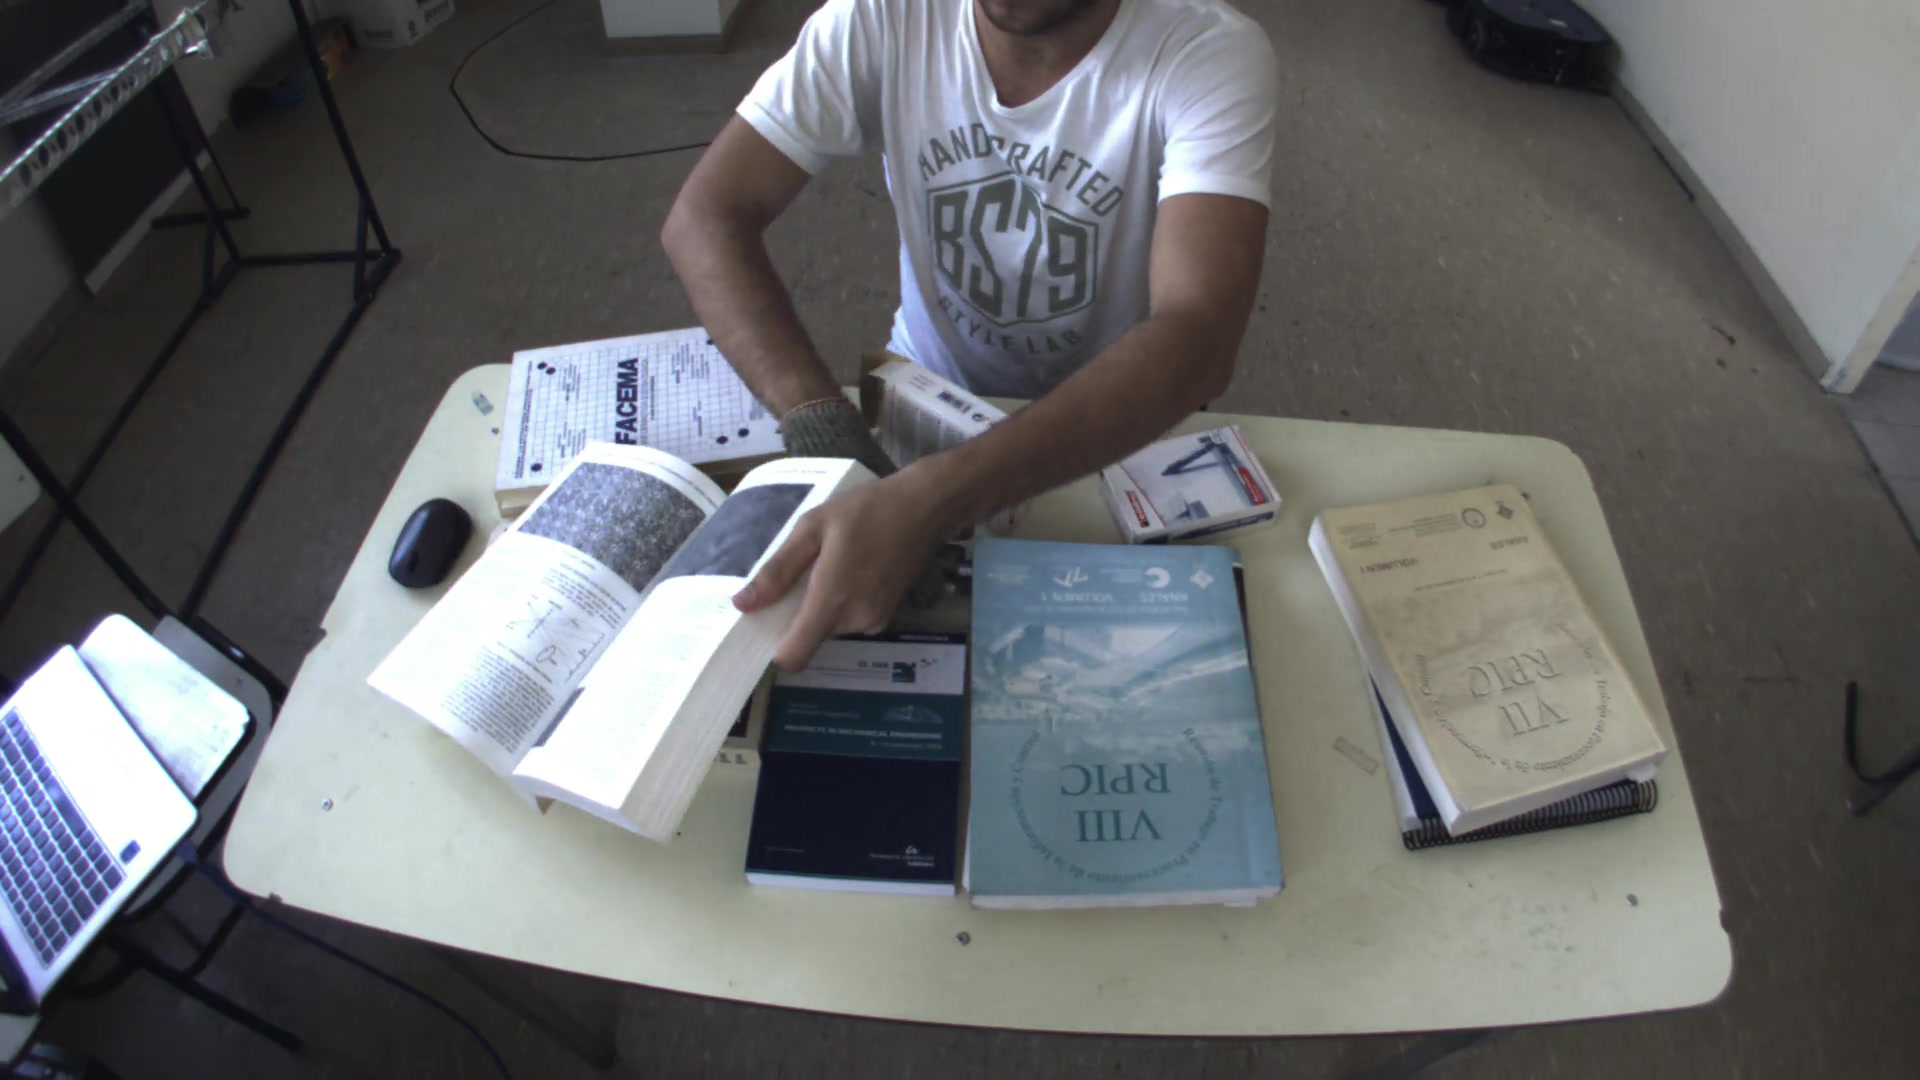hand: (727, 471, 934, 683)
